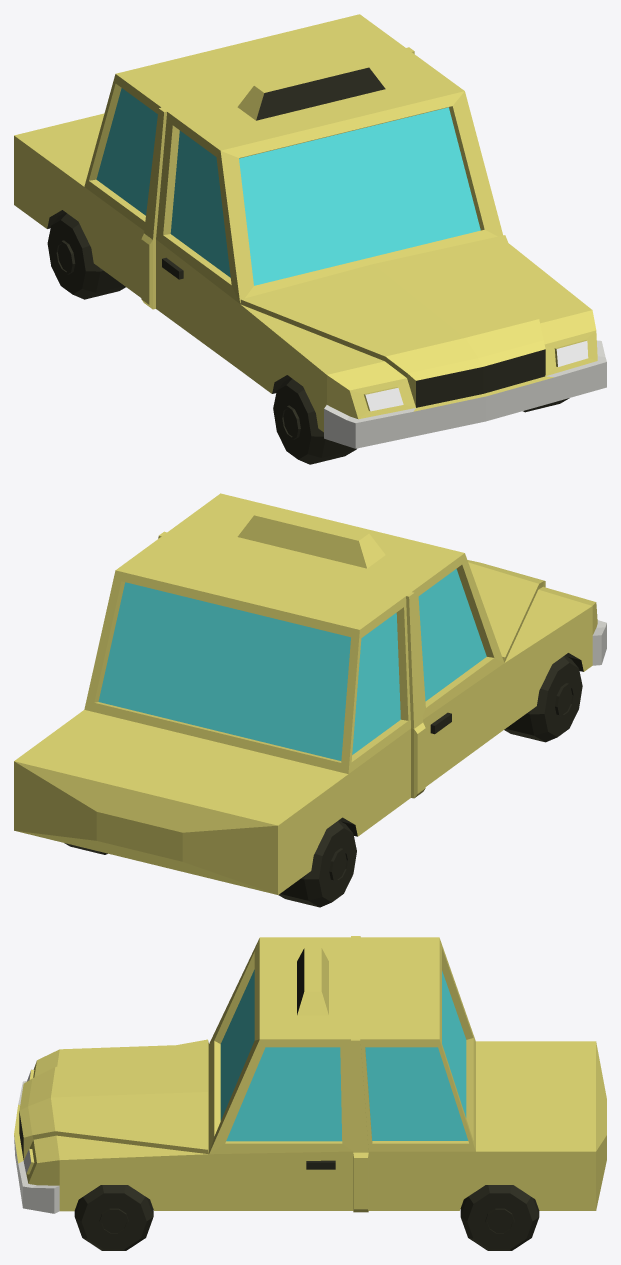
The model's file is Taxi.glb.
3 renders of one model, top to bottom at view 1: azimuth 30°, elevation 25°; view 2: azimuth 150°, elevation 25°; view 3: azimuth 270°, elevation 25°, orthographic. The views are drawn at different scales.
Visible parts, largest first — view 1: Taxi, Front Wheels, BackWheels; view 2: Taxi, BackWheels, Front Wheels; view 3: Taxi, BackWheels, Front Wheels.
Boxes of the visible parts, x1,y1,x2,y2 form: Taxi: (14,14,606,448); Front Wheels: (273,378,569,464); BackWheels: (47,212,125,299); Taxi: (14,493,606,894); BackWheels: (64,820,356,907); Front Wheels: (504,655,582,742); Taxi: (14,936,606,1213); BackWheels: (460,1185,539,1250); Front Wheels: (74,1185,153,1250).
Size of the model in its own units: 1.84 by 1.69 by 3.97.
2 materials, 2 textured.
